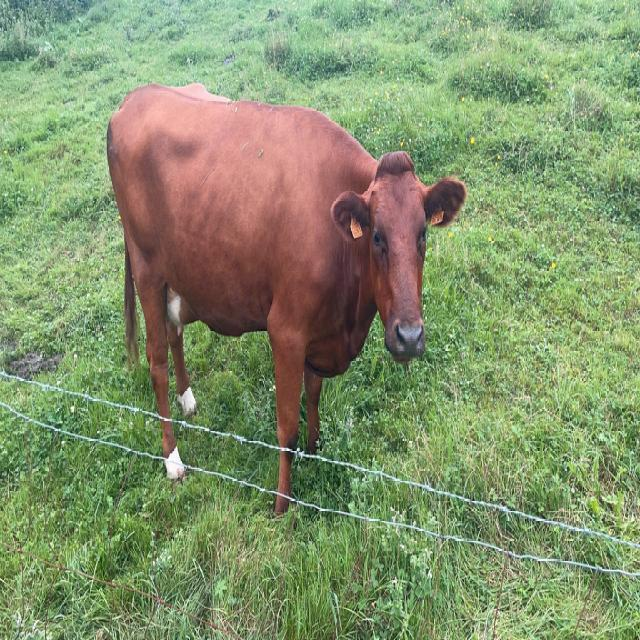cow: (108, 84, 465, 451), (161, 421, 186, 480), (275, 451, 292, 513)
